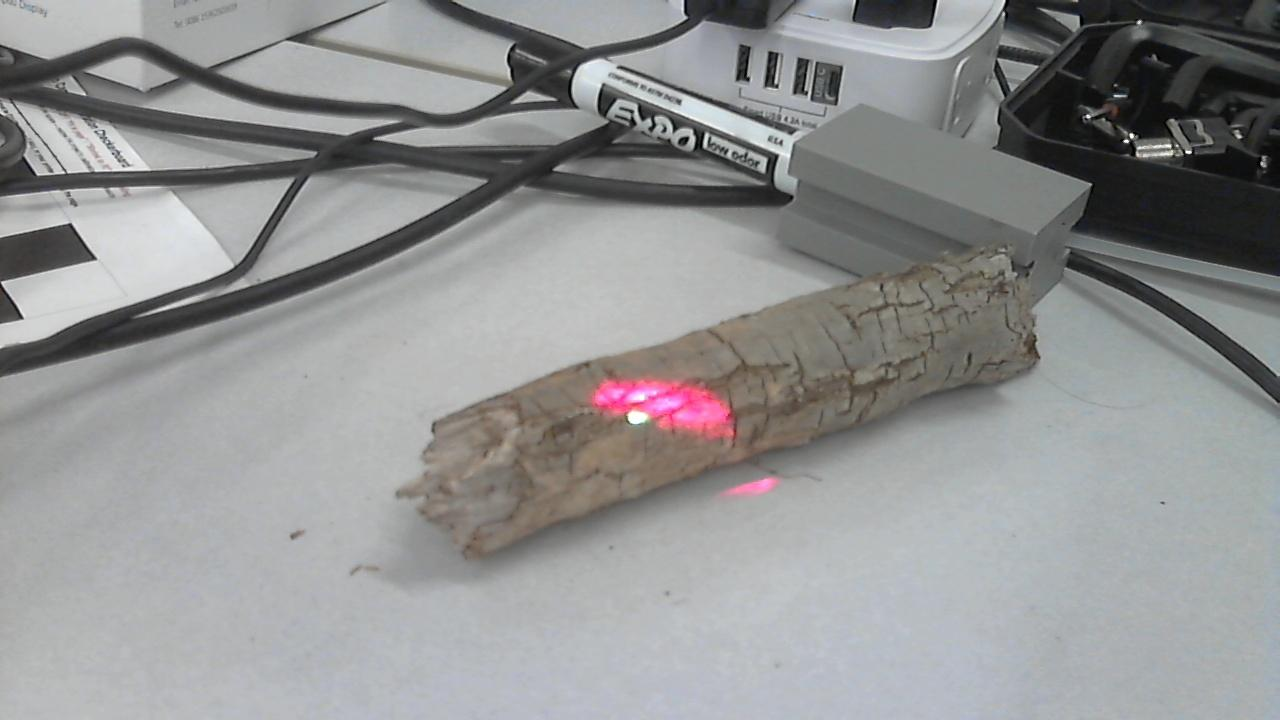Object tree branch - Material wood - Pdfname pipoaepaf: (593, 377, 739, 447)
